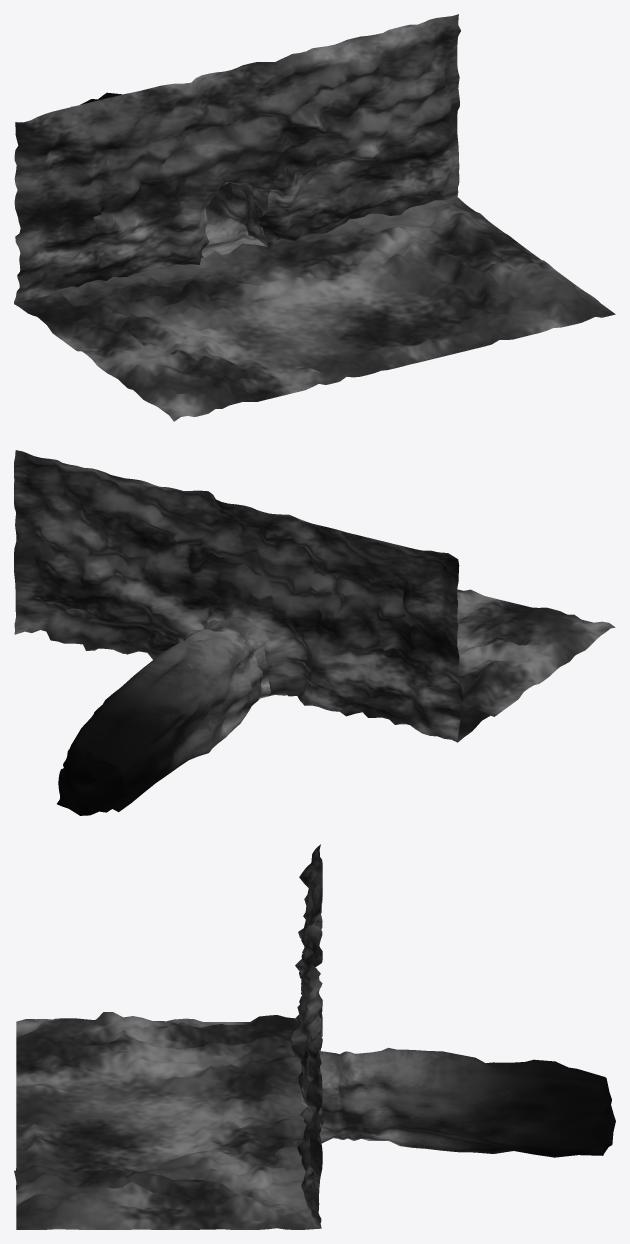
Rendered from 308_bg_vegaC.fbx.
3 views of the same model, one above another, from view 1: azimuth 30°, elevation 25°; view 2: azimuth 150°, elevation 25°; view 3: azimuth 270°, elevation 25° (orthographic). The views are drawn at different scales.
Visible parts, largest first — view 1: pPlane3; view 2: pPlane3; view 3: pPlane3.
Boxes of the visible parts, <box> form: pPlane3: <box>14,14,615,421</box>; pPlane3: <box>14,450,615,815</box>; pPlane3: <box>14,844,615,1229</box>.
Size of the model in its own units: 6586 by 2899 by 7997.
